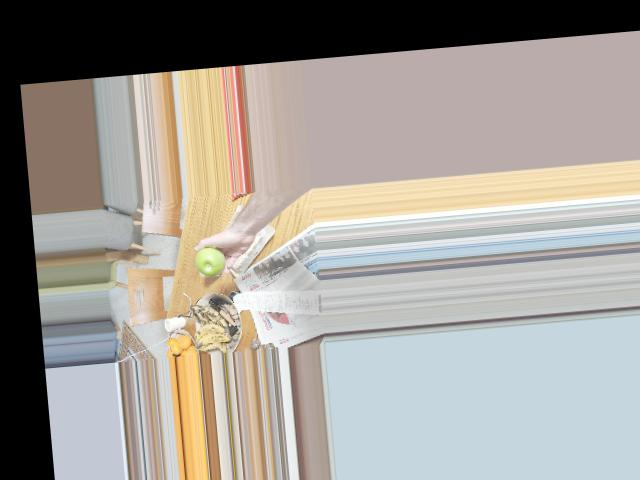apple: (188, 242, 230, 280)
